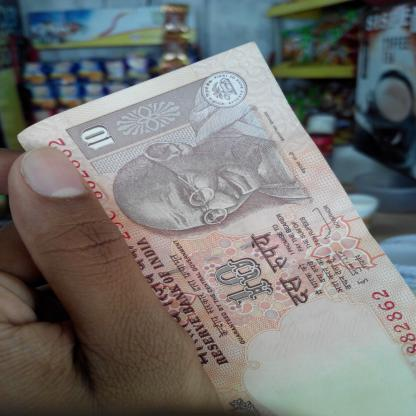Old10Front: (15, 39, 416, 416)
